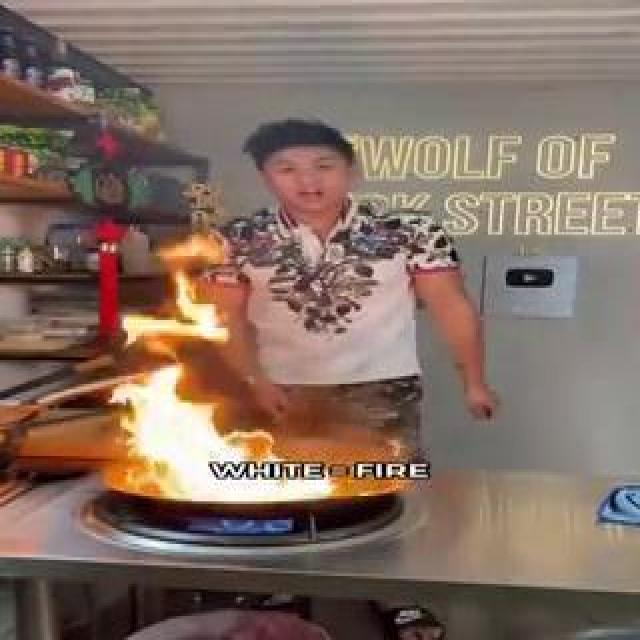Fire: (228, 294, 382, 424)
